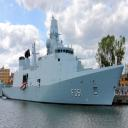Fragata: (2, 14, 126, 110)
